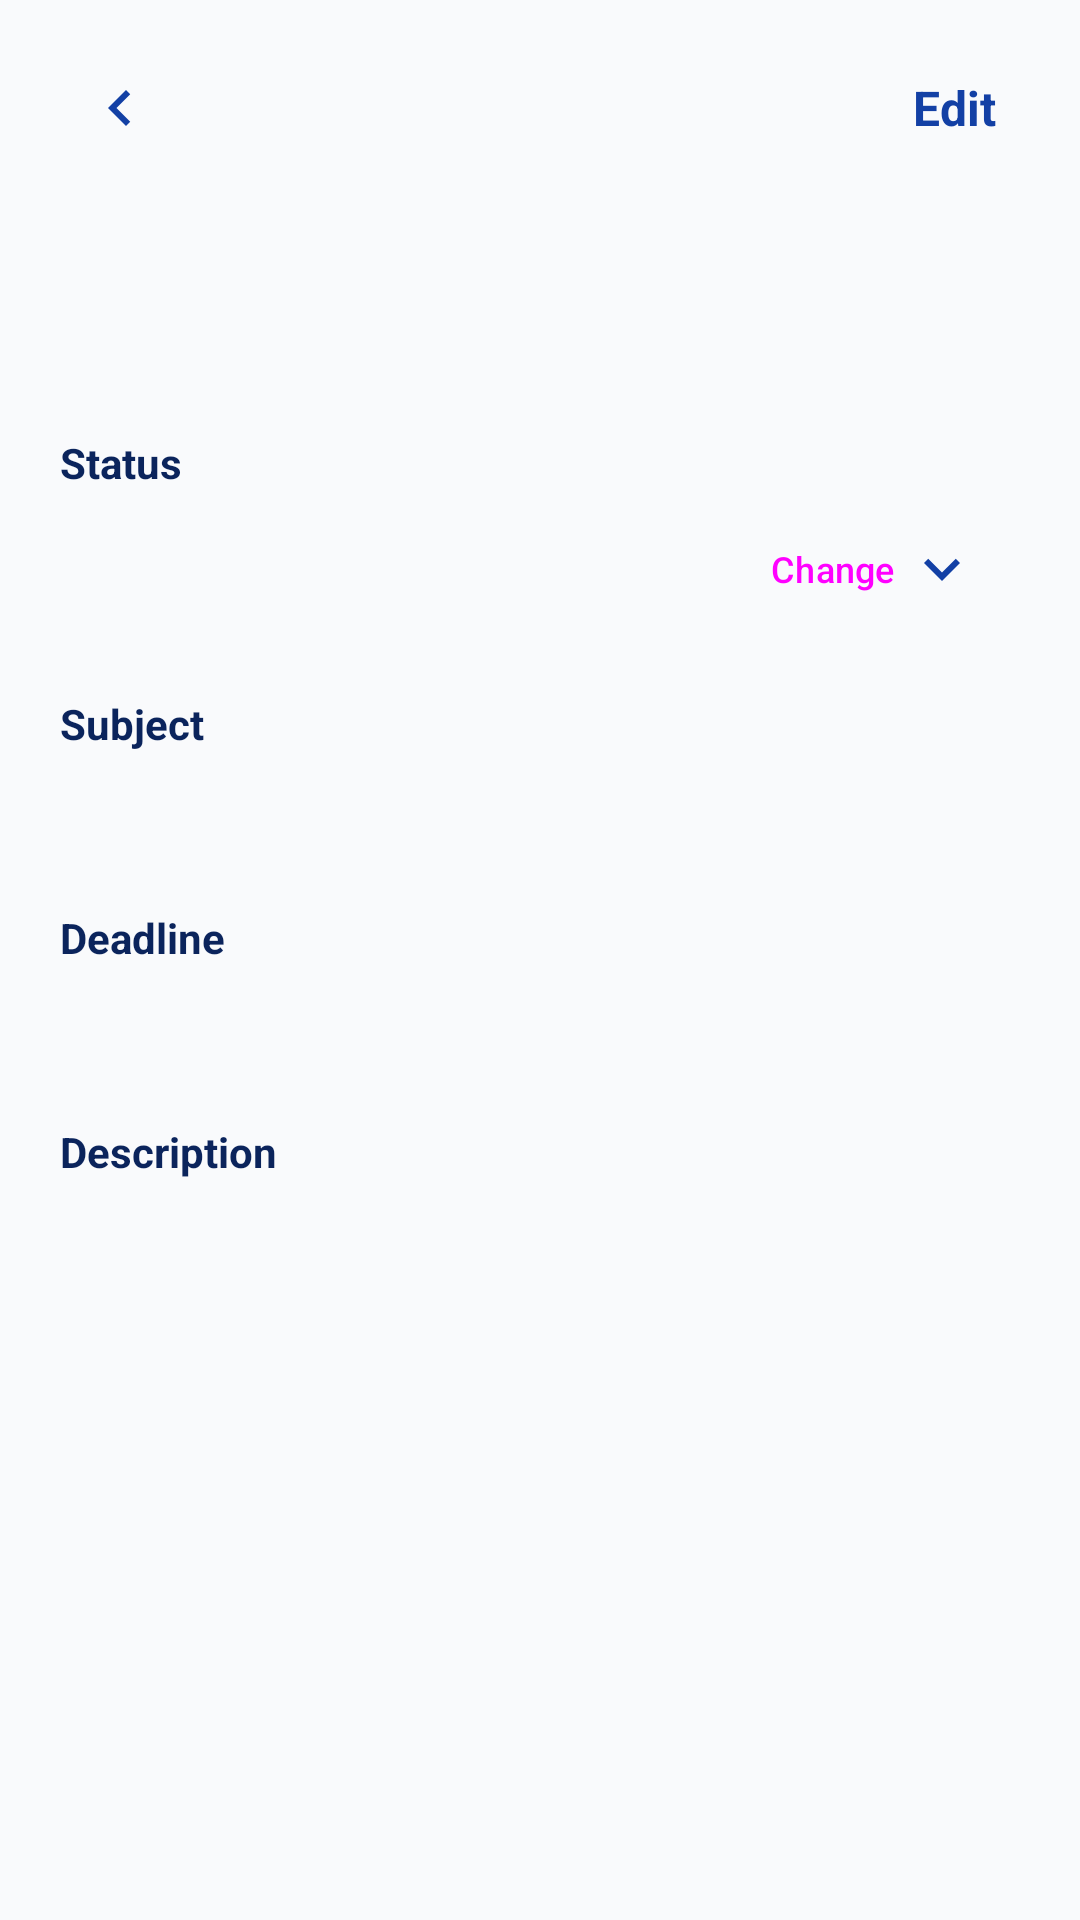

Where to tap for icons on this 1080px×1920px app screen, as [x,y]:
Back: [119,108]
